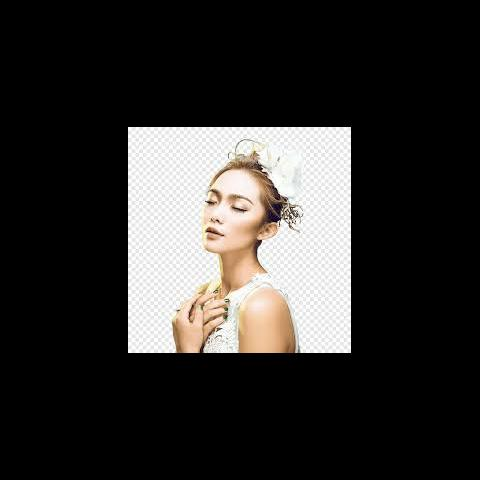closed: (203, 184, 261, 216)
